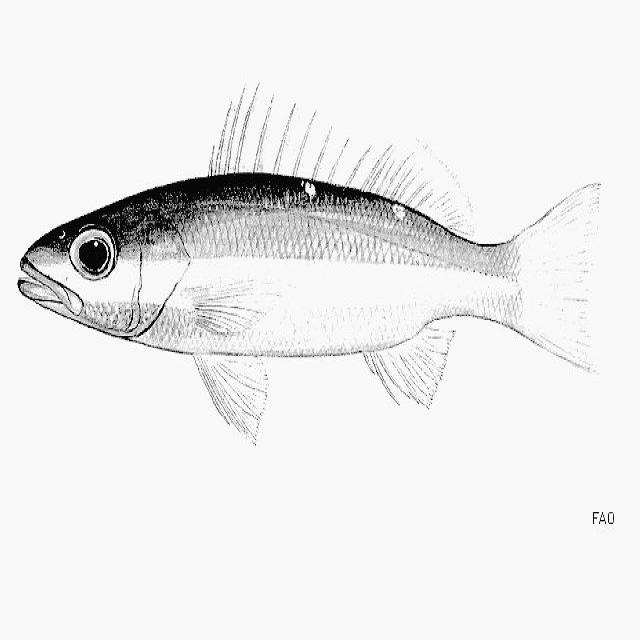ikan: (16, 80, 603, 445)
